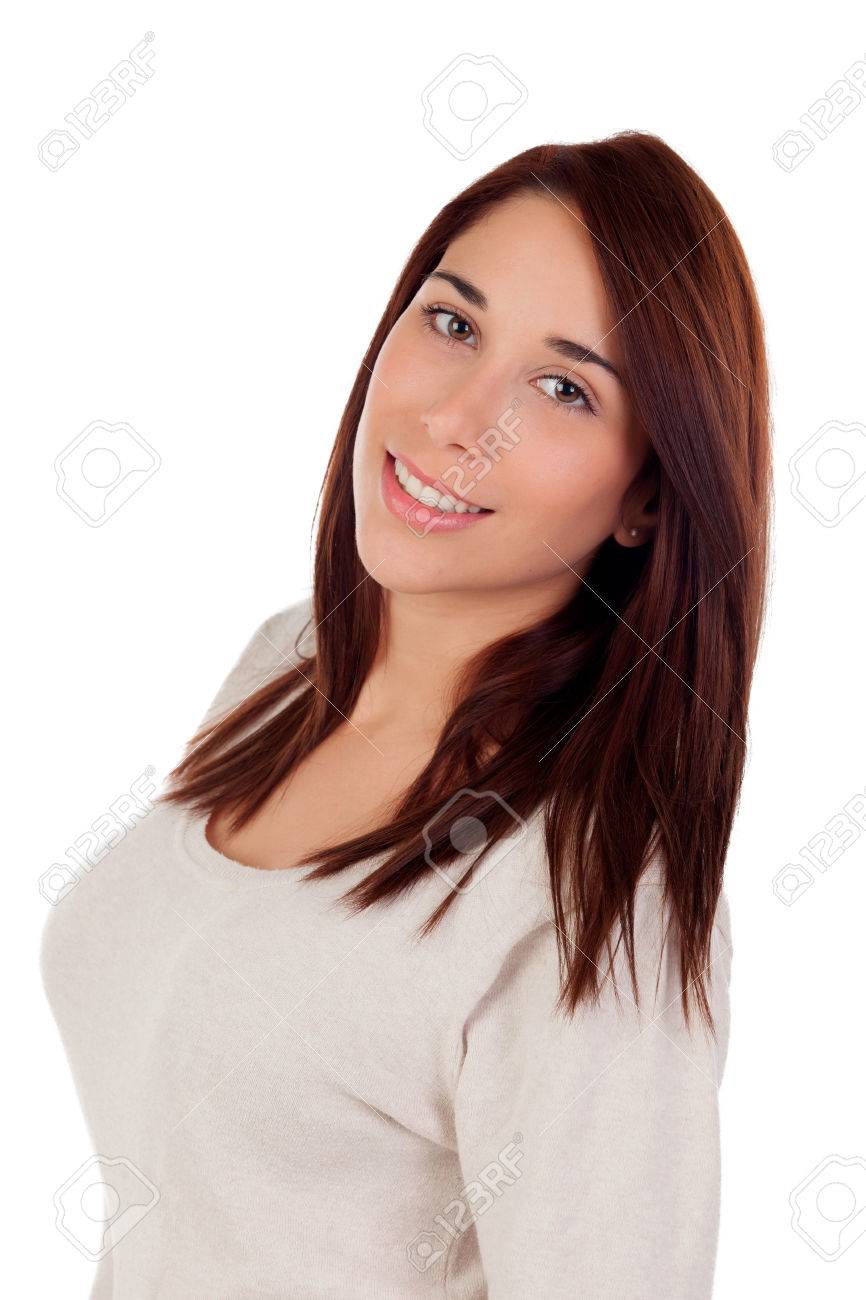person: (36, 116, 783, 1299)
